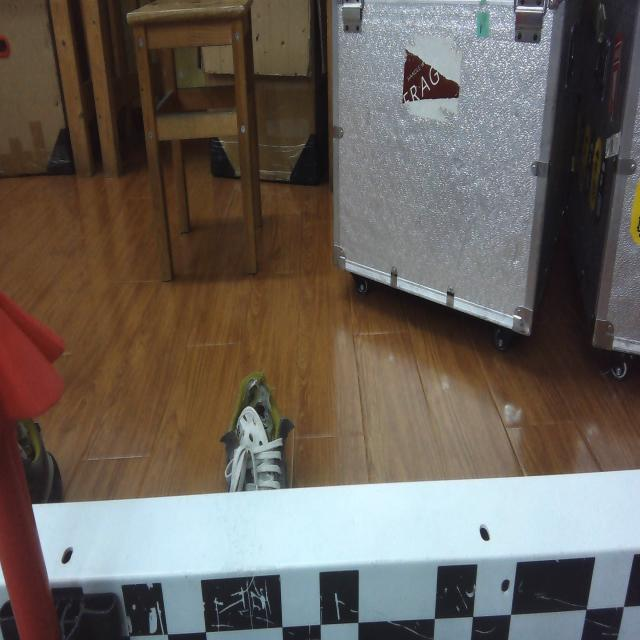zred-Stake-Head: (0, 288, 66, 419)
